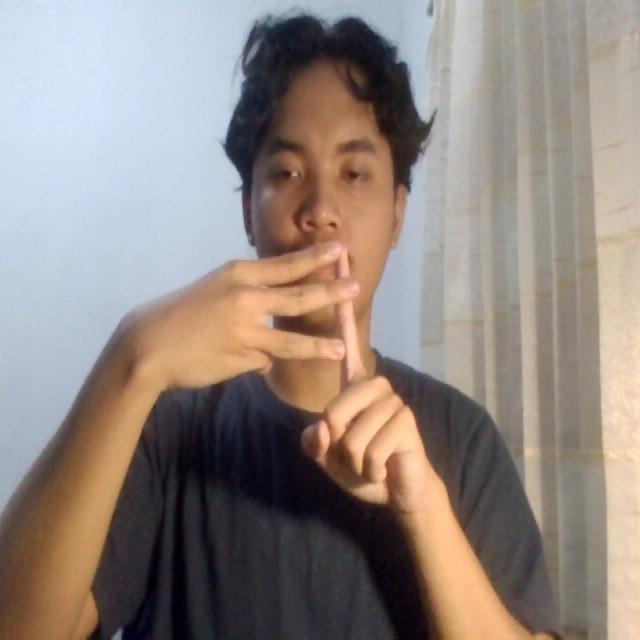B: (155, 225, 444, 532)
